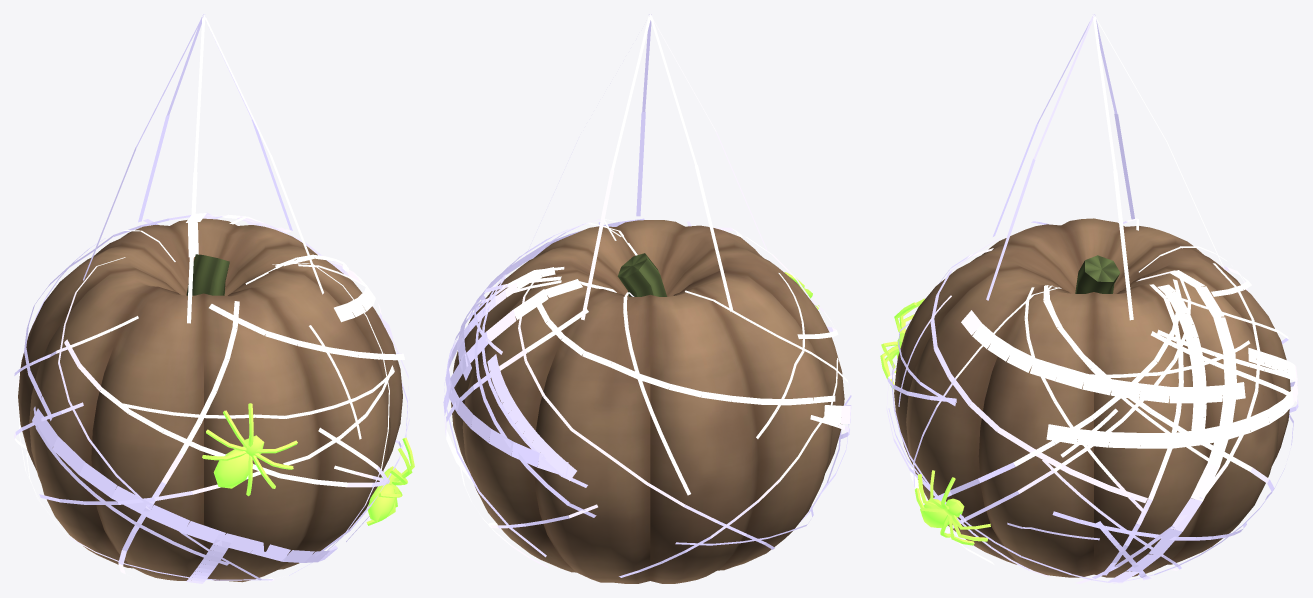
Rendered from web-pumpkin.glb.
3 renders of one model, left to right at view 1: azimuth 30°, elevation 25°; view 2: azimuth 150°, elevation 25°; view 3: azimuth 270°, elevation 25°, orthographic.
Parts seen in each view (by area): view 1: web_pumpkin; view 2: web_pumpkin; view 3: web_pumpkin.
Part boxes in pixels (bbox=[...]): web_pumpkin: bbox=[14, 14, 414, 583]; web_pumpkin: bbox=[443, 14, 851, 583]; web_pumpkin: bbox=[880, 14, 1298, 583].
Size of the model in its own units: 0.5087 by 0.7506 by 0.535.
3 materials, 1 textured.
